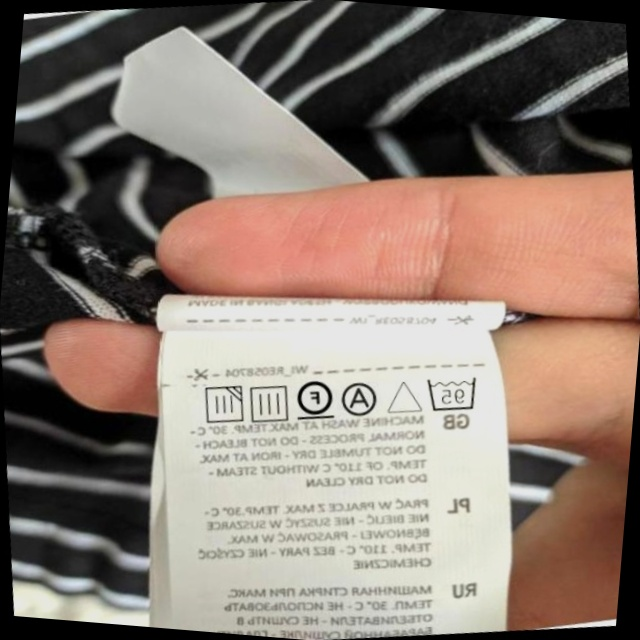95C: (421, 369, 483, 417)
bleach: (384, 373, 425, 419)
drip_dry: (244, 378, 294, 427)
drip_dry_in_shade: (196, 379, 247, 430)
dry_clean: (338, 377, 383, 420)
dry_clean_petrol_only: (291, 372, 337, 424)
